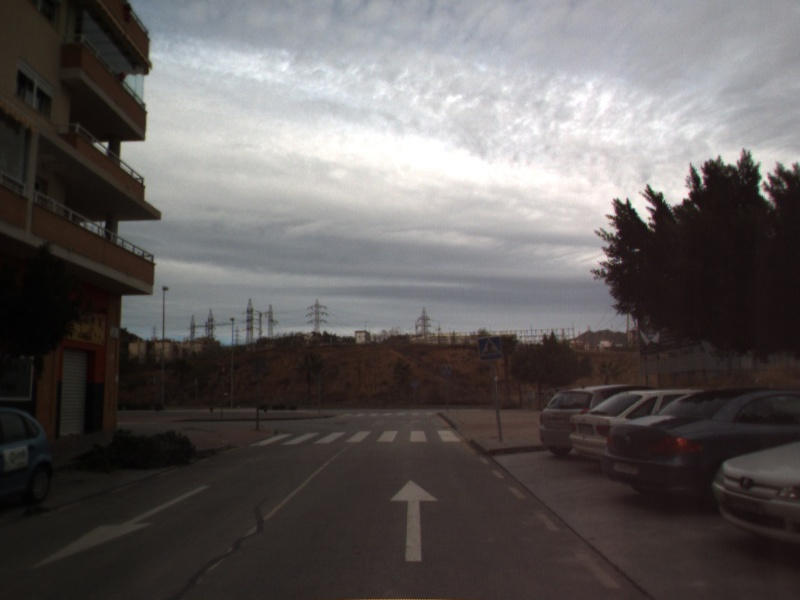STRAIGHT: (387, 477, 441, 563)
